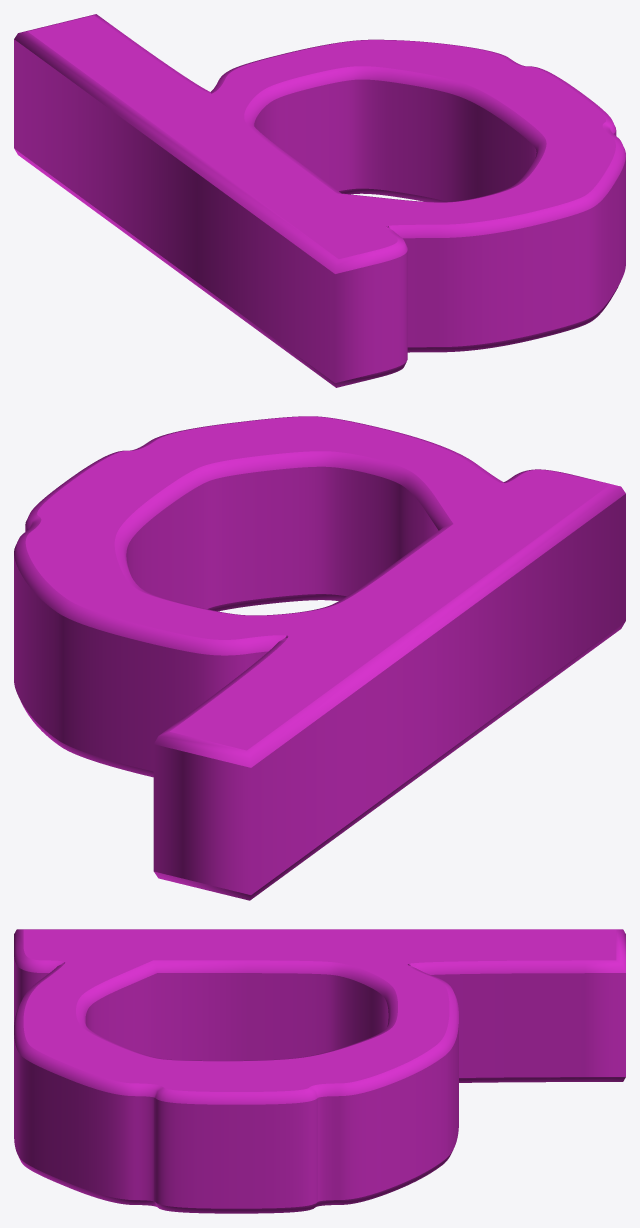
Rendered from Blocky_Letter_q.fbx.
The picture shows the model from 3 angles, top to bottom: view 1: azimuth 30°, elevation 25°; view 2: azimuth 150°, elevation 25°; view 3: azimuth 270°, elevation 25°; orthographic projection. The views are drawn at different scales.
Parts seen in each view (by area): view 1: BlockyLetter_q; view 2: BlockyLetter_q; view 3: BlockyLetter_q.
Part boxes in pixels (x1,y1,x2,y2): BlockyLetter_q: (14,14,625,387); BlockyLetter_q: (14,416,625,900); BlockyLetter_q: (14,929,625,1213).
Bounding box in the file's own units: 0.422 × 0.14 × 0.6404.
